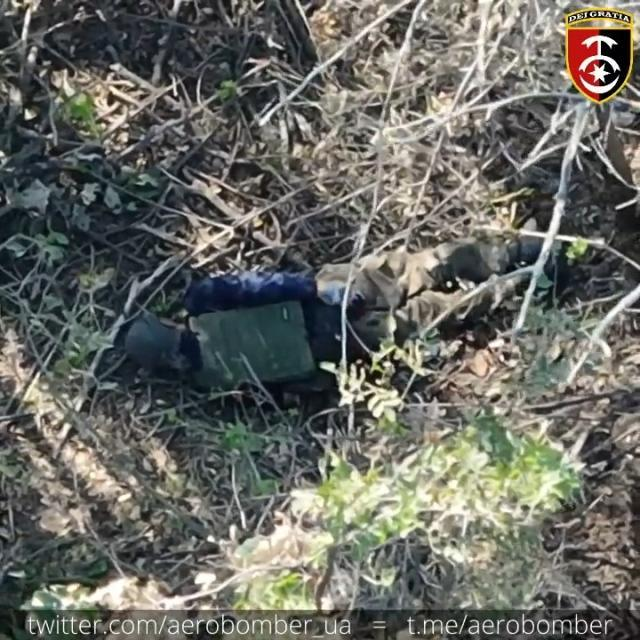MIL_Pax: (115, 236, 541, 389)
